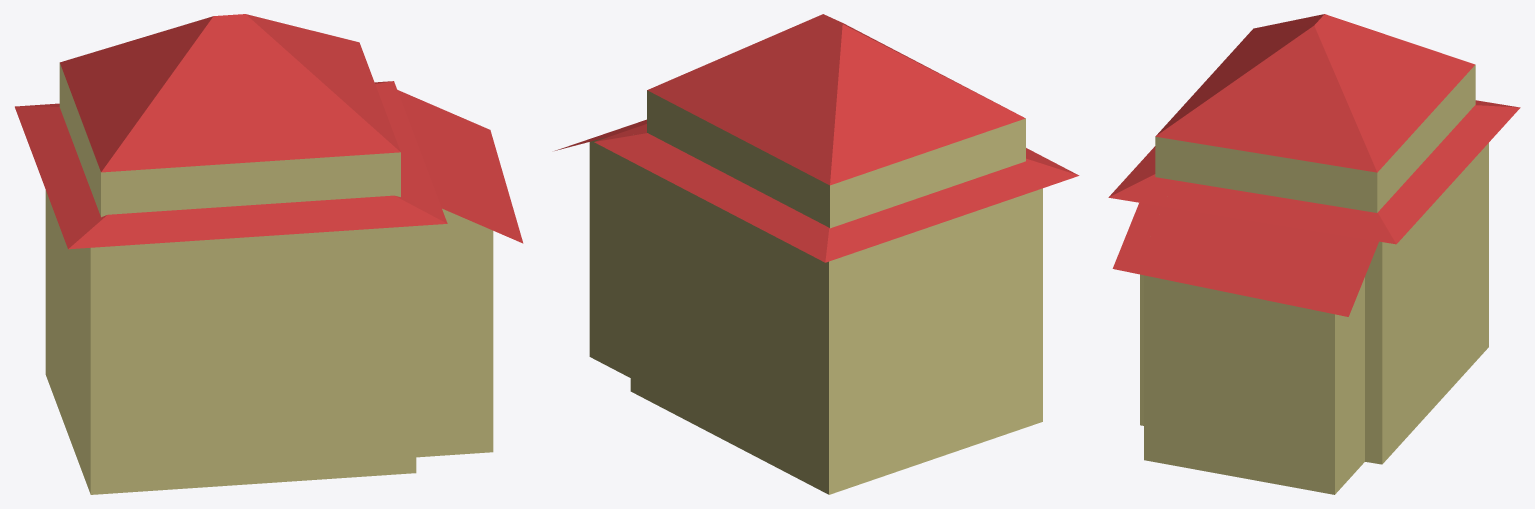
3 renders of one model, left to right at view 1: azimuth 30°, elevation 25°; view 2: azimuth 150°, elevation 25°; view 3: azimuth 270°, elevation 25°, orthographic. The views are drawn at different scales.
Bounding box in the file's own units: 20.58 × 16.73 × 16.43.
